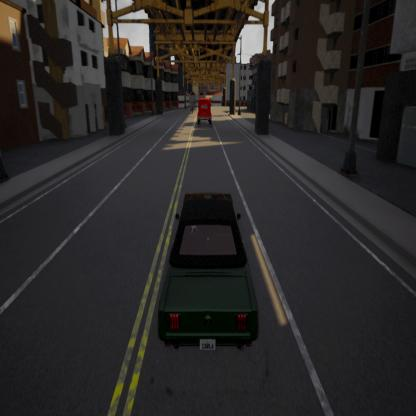Cars: (159, 191, 257, 357), (197, 94, 212, 129)
